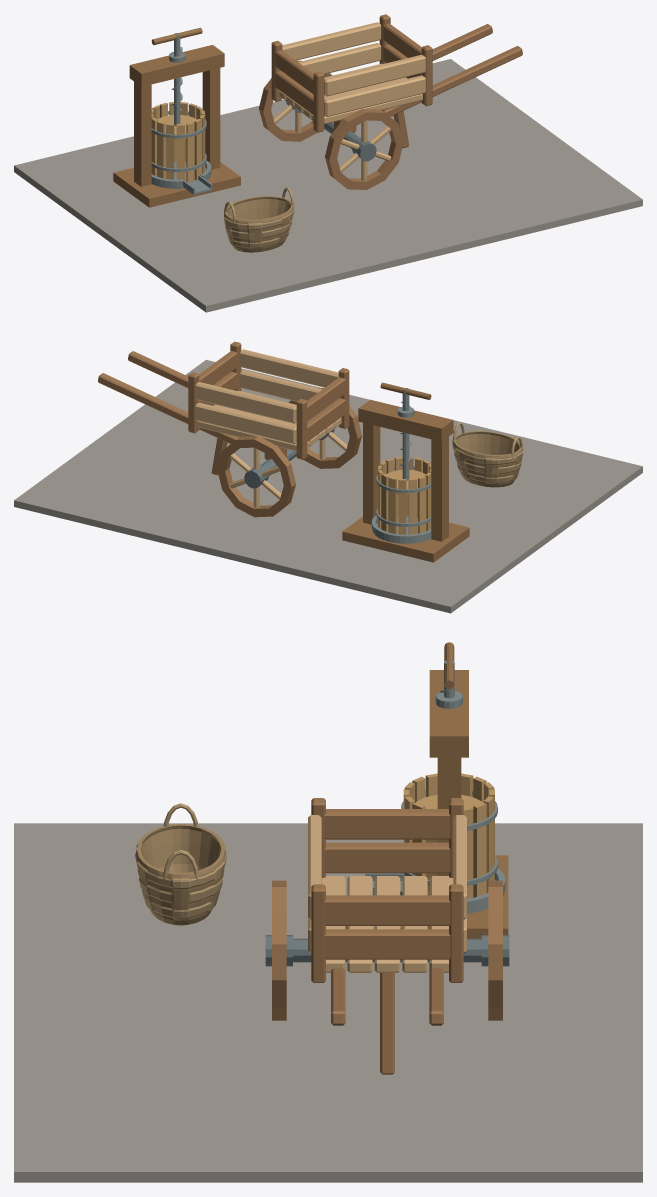
3 views of the same model, one above another, from view 1: azimuth 30°, elevation 25°; view 2: azimuth 150°, elevation 25°; view 3: azimuth 270°, elevation 25° (orthographic). The views are drawn at different scales.
Visible parts, largest first — view 1: SCENE_ONLY__DisplayFloor, cart__village-handcart-01, basket__village-open-harvest-basket-01, press__WholeThroughBoredTimberCrossbeam, press__WholeGroundedTimberPressBase, press__WholeTimberPressUpright1, press__WholeTimberPressUpright2, press__WholeOpenBasketStave13, press__WholeOpenBasketStave11, press__WholeOpenBasketStave10, press__WholeOpenBasketStave12, press__WholeVerticalPressSpindle; view 2: SCENE_ONLY__DisplayFloor, cart__village-handcart-01, basket__village-open-harvest-basket-01, press__WholeGroundedTimberPressBase, press__WholeThroughBoredTimberCrossbeam, press__WholeTimberPressUpright1, press__WholeTimberPressUpright2, press__WholeOpenFrontCollectorRim, press__WholeOpenBasketStave7, press__WholeVerticalPressSpindle, press__WholeOpenBasketStave6, press__WholeOpenBasketStave5 (+2 smaller); view 3: SCENE_ONLY__DisplayFloor, cart__village-handcart-01, basket__village-open-harvest-basket-01, press__WholeThroughBoredTimberCrossbeam, press__WholeTimberPressUpright2, press__WholeOpenBasketStave3, press__WholeGroundedTimberPressBase.
Boxes of the visible parts, x1,y1,x2,y2 form: SCENE_ONLY__DisplayFloor: (14,59,642,312); cart__village-handcart-01: (259,14,522,189); basket__village-open-harvest-basket-01: (223,187,294,252); press__WholeThroughBoredTimberCrossbeam: (129,45,224,86); press__WholeGroundedTimberPressBase: (113,162,240,207); press__WholeTimberPressUpright1: (134,81,151,186); press__WholeTimberPressUpright2: (202,68,220,169); press__WholeOpenBasketStave13: (186,122,194,182); press__WholeOpenBasketStave11: (166,123,174,179); press__WholeOpenBasketStave10: (157,121,165,178); press__WholeOpenBasketStave12: (176,123,184,180); press__WholeVerticalPressSpindle: (174,33,180,125); SCENE_ONLY__DisplayFloor: (14,359,642,613); cart__village-handcart-01: (98,341,361,517); basket__village-open-harvest-basket-01: (452,422,523,487); press__WholeGroundedTimberPressBase: (342,516,469,562); press__WholeThroughBoredTimberCrossbeam: (358,399,453,441); press__WholeTimberPressUpright1: (431,436,448,541); press__WholeTimberPressUpright2: (363,422,380,524); press__WholeOpenFrontCollectorRim: (371,515,431,542); press__WholeOpenBasketStave7: (408,478,417,534); press__WholeVerticalPressSpindle: (402,388,409,480); press__WholeOpenBasketStave6: (398,478,406,534); press__WholeOpenBasketStave5: (388,477,396,533); SCENE_ONLY__DisplayFloor: (14,823,642,1182); cart__village-handcart-01: (265,798,509,1074); basket__village-open-harvest-basket-01: (135,803,226,925); press__WholeThroughBoredTimberCrossbeam: (429,670,468,757); press__WholeTimberPressUpright2: (437,757,461,875); press__WholeOpenBasketStave3: (473,802,486,897); press__WholeGroundedTimberPressBase: (400,855,508,938).
Bounding box in the file's own units: 4.2 × 1.43 × 3.2.
